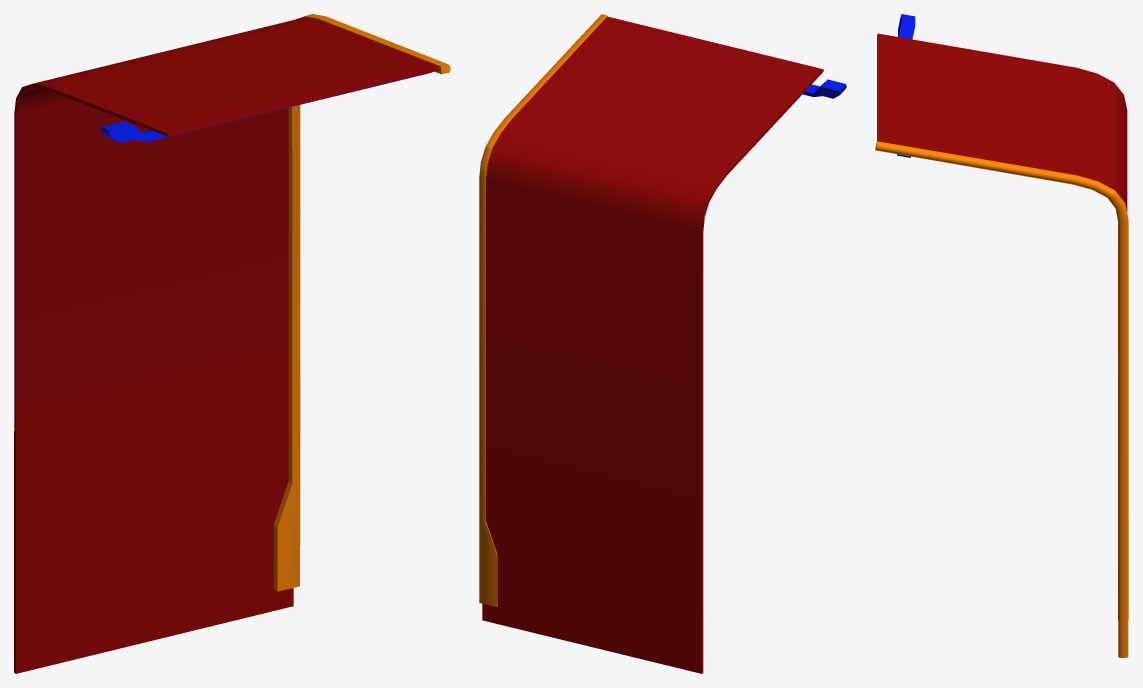
File: SM_Tram_Door_Right.FBX
3 views of the same model, side by side, from view 1: azimuth 30°, elevation 25°; view 2: azimuth 150°, elevation 25°; view 3: azimuth 270°, elevation 25° (orthographic). The views are drawn at different scales.
Parts seen in each view (by area): view 1: door_r; view 2: door_r; view 3: door_r.
Boxes of the visible parts, left/top/right/bottom form: door_r: left=14, top=14, right=450, bottom=673; door_r: left=479, top=14, right=846, bottom=673; door_r: left=875, top=14, right=1128, bottom=657.
Size of the model in its own units: 138 by 264 by 114.
